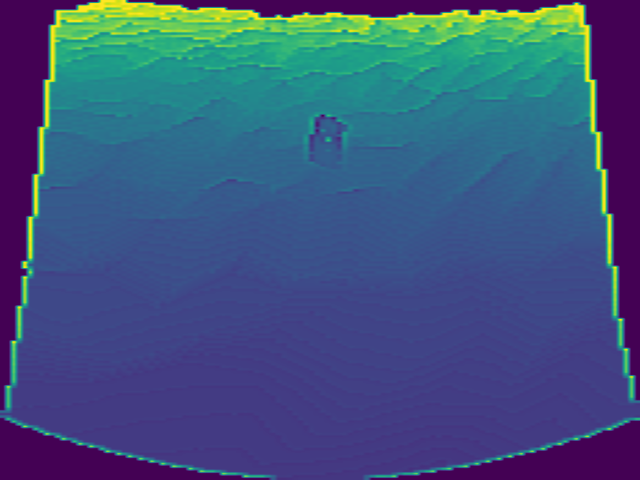car_0198: (304, 111, 348, 171)
